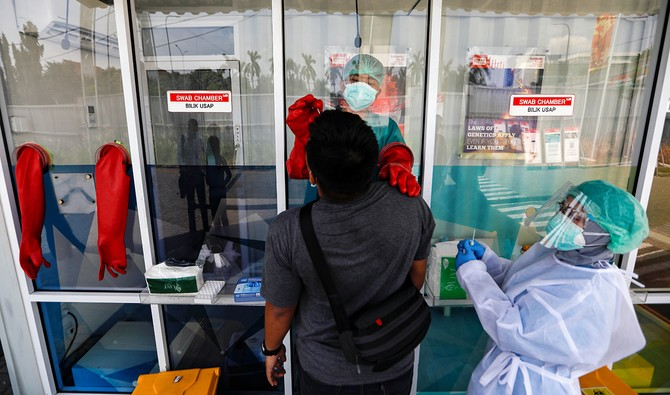Coverall: (456, 238, 646, 395)
Face_Shield: (526, 179, 600, 251)
Gloves: (452, 236, 485, 270)
with_mask: (546, 205, 584, 251), (345, 74, 380, 112)
